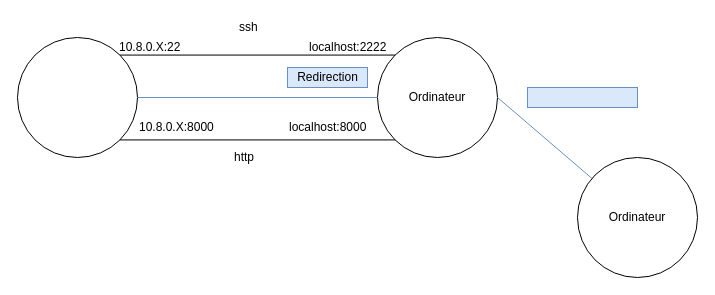
Some shapes in this 715 by 295 pixel diagram are drawn without their labels. Here are the shapes that lost their labels. From the top down, the centre of each, then its label:
At pixel 77 97: "Machine Virtuel".
At pixel 582 97: "192.168.1.X:8000".
